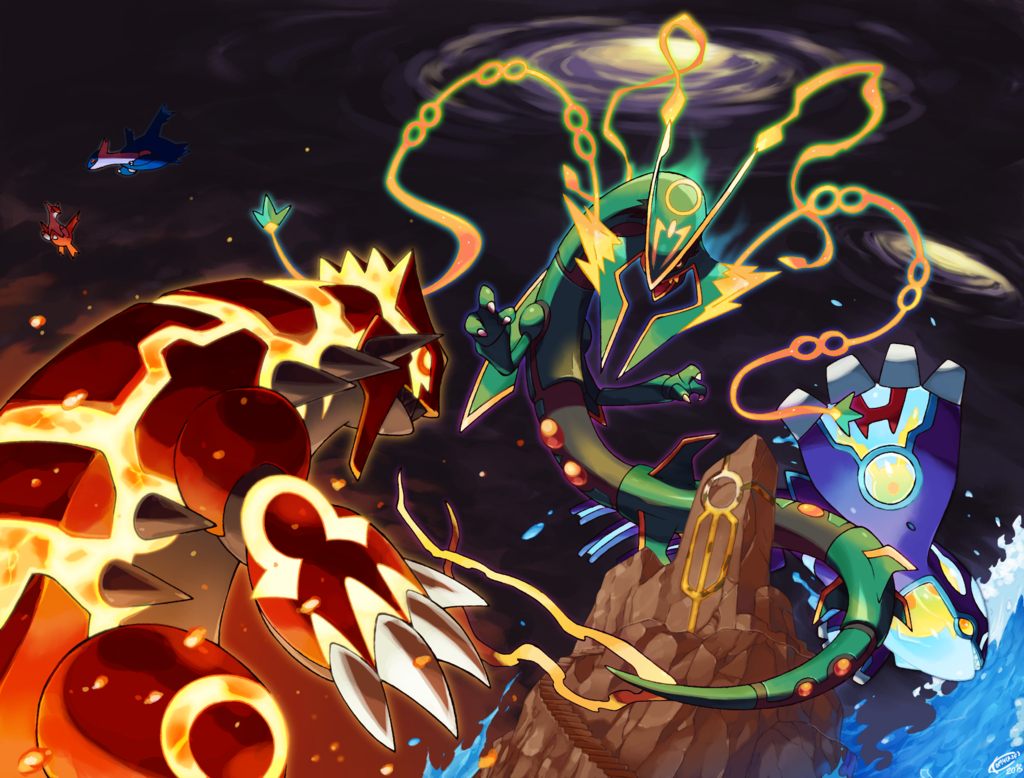rayquaza: (452, 145, 791, 559)
